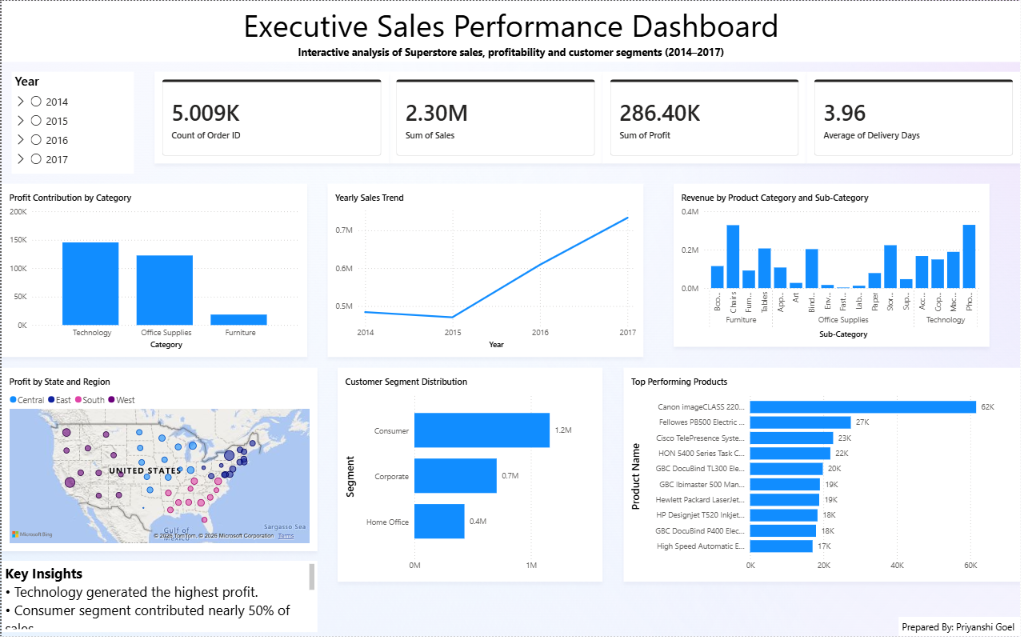

What the dashboard file says about the page in this screenshot:
{"tool":"powerbi","page":{"name":"Page 1","canvas":[1600,1000],"ordinal":0},"visuals":[{"type":"cardVisual","fields":{"Data":["Sum(Sample - Superstore.Sales)"]},"box":[608,112,336,144],"z":0},{"type":"cardVisual","fields":{"Data":["Sum(Sample - Superstore.Profit)"]},"box":[944,112,320,144],"z":1},{"type":"cardVisual","fields":{"Data":["Avg(Sample - Superstore.Delivery Days)"]},"box":[1264,112,336,144],"z":2},{"type":"cardVisual","fields":{"Data":["Count(Sample - Superstore.Order ID)"]},"box":[240,112,368,144],"z":3},{"type":"map","title":"Profit by State and Region","fields":{"Category":["Sample - Superstore.State","Sample - Superstore.City"],"Series":["Sample - Superstore.Region"],"Size":["Sum(Sample - Superstore.Profit)"]},"box":[0,576,496,288],"z":4},{"type":"clusteredColumnChart","title":"Revenue by Product Category and Sub-Category","fields":{"Y":["Sum(Sample - Superstore.Sales)"],"Category":["Sample - Superstore.Category","Sample - Superstore.Sub-Category"]},"box":[1056,288,496,256],"z":5},{"type":"actionButton","box":[0,0,100,40],"z":6},{"type":"lineChart","title":"Yearly Sales Trend","fields":{"Y":["Sum(Sample - Superstore.Sales)"],"Category":["Sample - Superstore.Order Date.Variation.Date Hierarchy.Year","Sample - Superstore.Order Date.Variation.Date Hierarchy.Quarter","Sample - Superstore.Order Date.Variation.Date Hierarchy.Month","Sample - Superstore.Order Date.Variation.Date Hierarchy.Day"]},"box":[512,288,496,272],"z":7},{"type":"clusteredColumnChart","title":"Profit Contribution by Category","fields":{"Y":["Sum(Sample - Superstore.Profit)"],"Category":["Sample - Superstore.Category"]},"box":[0,288,480,272],"z":8},{"type":"clusteredBarChart","title":"Customer Segment Distribution","fields":{"Category":["Sample - Superstore.Segment"],"Y":["Sum(Sample - Superstore.Sales)"]},"box":[528,576,416,336],"z":9},{"type":"clusteredBarChart","title":"Top Performing Products","fields":{"Category":["Sample - Superstore.Product Name"],"Y":["Sum(Sample - Superstore.Sales)"]},"box":[976,576,624,336],"z":10},{"type":"listSlicer","fields":{"Values":["Sample - Superstore.Order Date.Variation.Date Hierarchy.Year","Sample - Superstore.Order Date.Variation.Date Hierarchy.Month","Sample - Superstore.Region","Sample - Superstore.Category"]},"box":[16,112,192,160],"z":11},{"type":"textbox","box":[0,0,1600,96],"z":12},{"type":"textbox","box":[0,880,496,112],"z":13},{"type":"textbox","box":[1408,968,192,32],"z":14}]}

Visuals, with their boxes in screenshot pixels (x1, y1, x2, y2), scaled from the page's 1600x1000 canvas onto the 1021x637 screenshot:
cardVisual - Sum(Sample - Superstore.Sales): box=[388, 71, 602, 163]
cardVisual - Sum(Sample - Superstore.Profit): box=[602, 71, 807, 163]
cardVisual - Avg(Sample - Superstore.Delivery Days): box=[807, 71, 1020, 163]
cardVisual - Count(Sample - Superstore.Order ID): box=[153, 71, 388, 163]
"Profit by State and Region" map: box=[0, 367, 317, 550]
"Revenue by Product Category and Sub-Category" clusteredColumnChart: box=[674, 183, 990, 347]
actionButton: box=[0, 0, 64, 25]
"Yearly Sales Trend" lineChart: box=[327, 183, 643, 357]
"Profit Contribution by Category" clusteredColumnChart: box=[0, 183, 306, 357]
"Customer Segment Distribution" clusteredBarChart: box=[337, 367, 602, 581]
"Top Performing Products" clusteredBarChart: box=[623, 367, 1020, 581]
listSlicer - Sample - Superstore.Order Date.Variation.Date Hierarchy.Year x Sample - Superstore.Order Date.Variation.Date Hierarchy.Month: box=[10, 71, 133, 173]
textbox: box=[0, 0, 1020, 61]
textbox: box=[0, 561, 317, 632]
textbox: box=[898, 617, 1020, 636]
